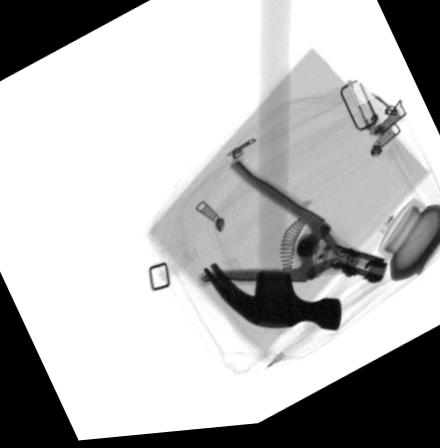Hammer: (201, 0, 342, 339)
Pliers: (199, 164, 389, 292)
